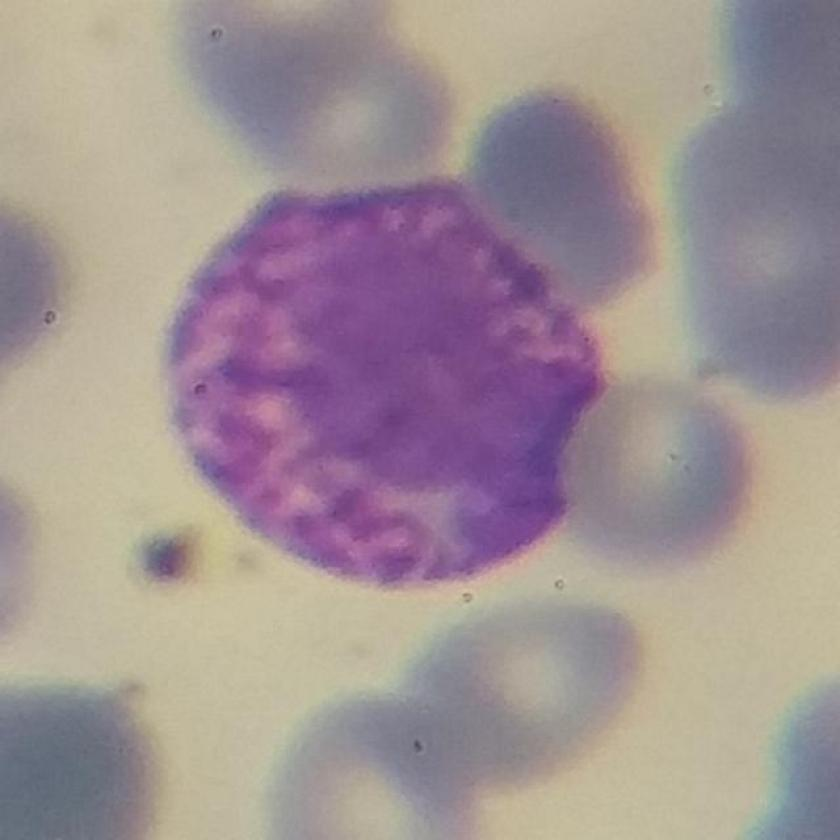basophil: (155, 148, 600, 597)
